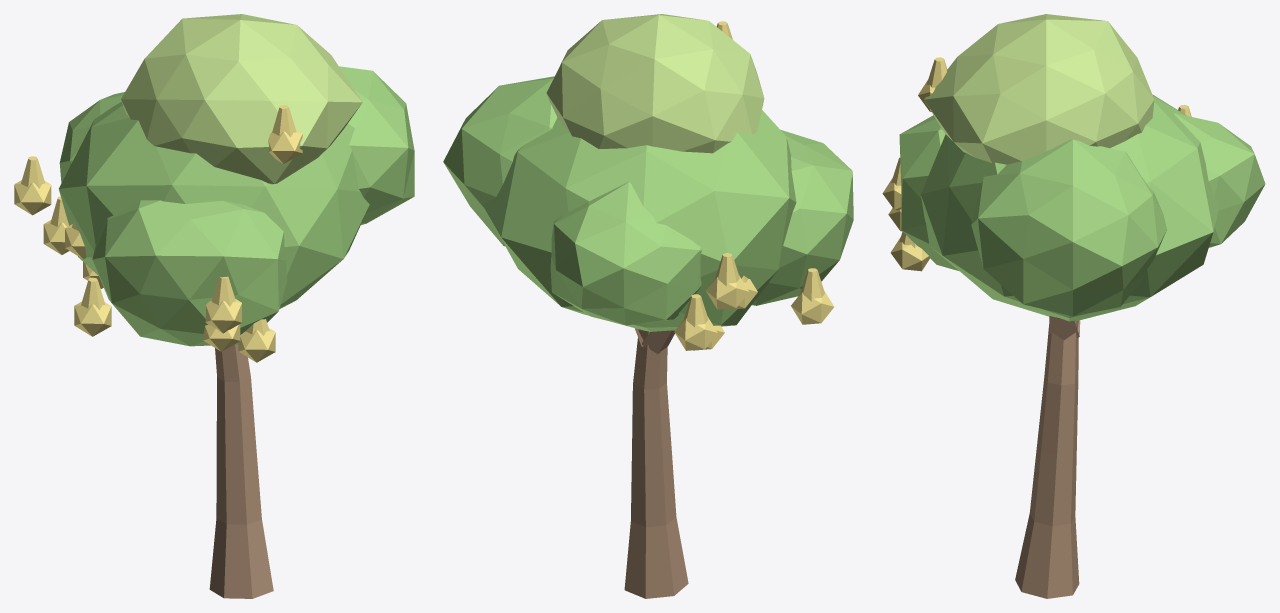
The model's file is pereira_0.fbx.
3 views of the same model, side by side, from view 1: azimuth 30°, elevation 25°; view 2: azimuth 150°, elevation 25°; view 3: azimuth 270°, elevation 25° (orthographic).
Parts seen in each view (by area): view 1: pereira_0~Copa 4@leaflight, pereira_0~Copa 0@leaf, pereira_0~Copa 3@leaf, pereira_0~Tronco@bark, pereira_0~Copa 1@leaf, pereira_0~Copa 2@leaf, pereira_0~Fruta 1@pear, pereira_0~Fruta 9@pear, pereira_0~Fruta 2@pear, pereira_0~Fruta 0@pear, pereira_0~Fruta 4@pear, pereira_0~Fruta 6@pear (+1 smaller); view 2: pereira_0~Copa 0@leaf, pereira_0~Copa 4@leaflight, pereira_0~Copa 2@leaf, pereira_0~Tronco@bark, pereira_0~Copa 3@leaf, pereira_0~Copa 1@leaf, pereira_0~Fruta 6@pear, pereira_0~Fruta 9@pear, pereira_0~Fruta 1@pear; view 3: pereira_0~Copa 1@leaf, pereira_0~Copa 4@leaflight, pereira_0~Copa 0@leaf, pereira_0~Tronco@bark, pereira_0~Copa 2@leaf, pereira_0~Copa 3@leaf, pereira_0~Fruta 4@pear, pereira_0~Fruta 0@pear, pereira_0~Fruta 2@pear.
Part boxes in pixels (x1=…): pereira_0~Copa 4@leaflight: x1=121, y1=14, x2=362, y2=184; pereira_0~Copa 0@leaf: x1=59, y1=102, x2=369, y2=308; pereira_0~Copa 3@leaf: x1=92, y1=200, x2=287, y2=346; pereira_0~Tronco@bark: x1=209, y1=344, x2=273, y2=598; pereira_0~Copa 1@leaf: x1=339, y1=66, x2=414, y2=224; pereira_0~Copa 2@leaf: x1=59, y1=92, x2=124, y2=182; pereira_0~Fruta 1@pear: x1=74, y1=277, x2=111, y2=336; pereira_0~Fruta 9@pear: x1=14, y1=156, x2=51, y2=215; pereira_0~Fruta 2@pear: x1=205, y1=276, x2=241, y2=333; pereira_0~Fruta 0@pear: x1=268, y1=105, x2=302, y2=163; pereira_0~Fruta 4@pear: x1=238, y1=319, x2=275, y2=362; pereira_0~Fruta 6@pear: x1=43, y1=196, x2=68, y2=254; pereira_0~Copa 0@leaf: x1=482, y1=110, x2=796, y2=331; pereira_0~Copa 4@leaflight: x1=546, y1=14, x2=764, y2=153; pereira_0~Copa 2@leaf: x1=550, y1=182, x2=702, y2=325; pereira_0~Tronco@bark: x1=624, y1=329, x2=688, y2=598; pereira_0~Copa 3@leaf: x1=752, y1=129, x2=853, y2=305; pereira_0~Copa 1@leaf: x1=443, y1=76, x2=557, y2=246; pereira_0~Fruta 6@pear: x1=674, y1=294, x2=717, y2=350; pereira_0~Fruta 9@pear: x1=706, y1=253, x2=748, y2=309; pereira_0~Fruta 1@pear: x1=791, y1=268, x2=834, y2=324; pereira_0~Copa 1@leaf: x1=971, y1=139, x2=1166, y2=316; pereira_0~Copa 4@leaflight: x1=924, y1=14, x2=1154, y2=164; pereira_0~Copa 0@leaf: x1=921, y1=94, x2=1219, y2=321; pereira_0~Tronco@bark: x1=1015, y1=320, x2=1079, y2=598; pereira_0~Copa 2@leaf: x1=1174, y1=113, x2=1265, y2=247; pereira_0~Copa 3@leaf: x1=899, y1=115, x2=958, y2=270; pereira_0~Fruta 4@pear: x1=890, y1=232, x2=929, y2=271; pereira_0~Fruta 0@pear: x1=918, y1=57, x2=947, y2=111; pereira_0~Fruta 2@pear: x1=882, y1=157, x2=901, y2=210.
Size of the model in its own units: 2.11 by 3.31 by 2.03.
